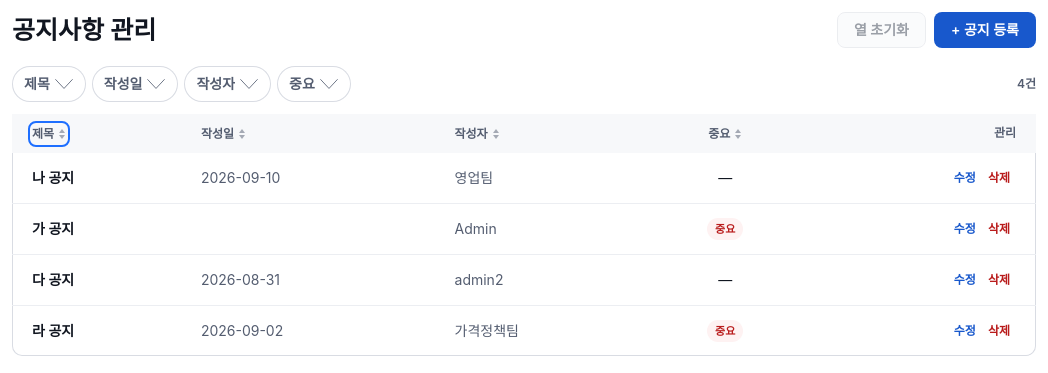
Test: NoticesAdminTable (DataTable) › 열 이동은 사용자별 키에 저장되고 열 초기화로 기본 순서로 돌아온다
Step 1. Type keys "{Alt>}{Shift>}{ArrowRight}{/Shift}{/Alt}"
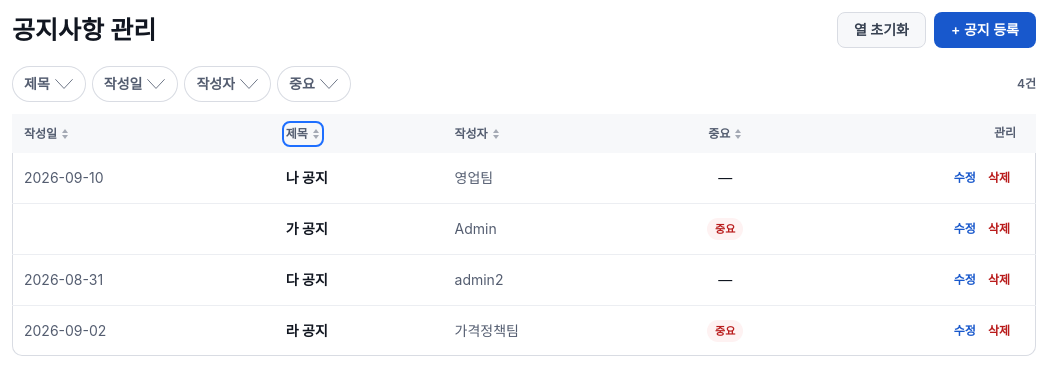
Check: the column headings read "작성일", "제목", "작성자", "중요", "관리", in this order, box [12,114,266,153]; [266,114,442,153]; [442,114,653,153]; [653,114,797,153]; [797,114,1036,153]
Step 2. Click the button "열 초기화" → (881, 30), box [837,12,926,48]
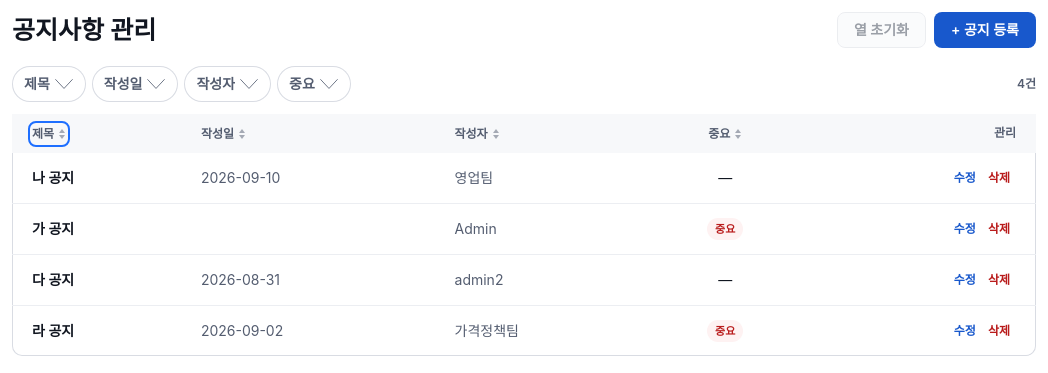
Check: the column headings read "제목", "작성일", "작성자", "중요", "관리", in this order, box [12,114,189,153]; [189,114,442,153]; [442,114,653,153]; [653,114,797,153]; [797,114,1036,153]
Check: the button "열 초기화" is disabled, box [837,12,926,48]
